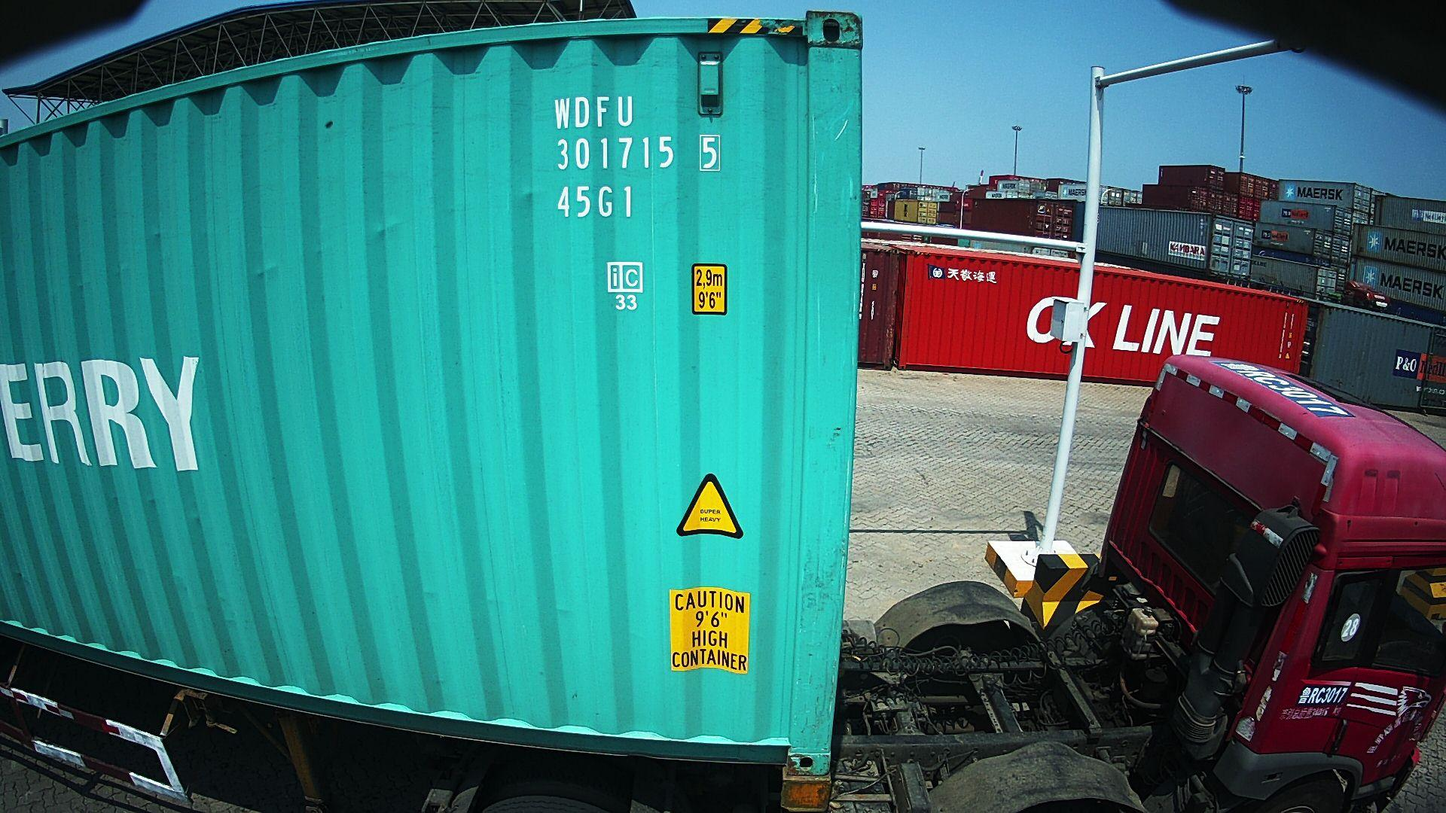container-numbers: (554, 130, 725, 176), (551, 92, 639, 131), (554, 182, 637, 221)
